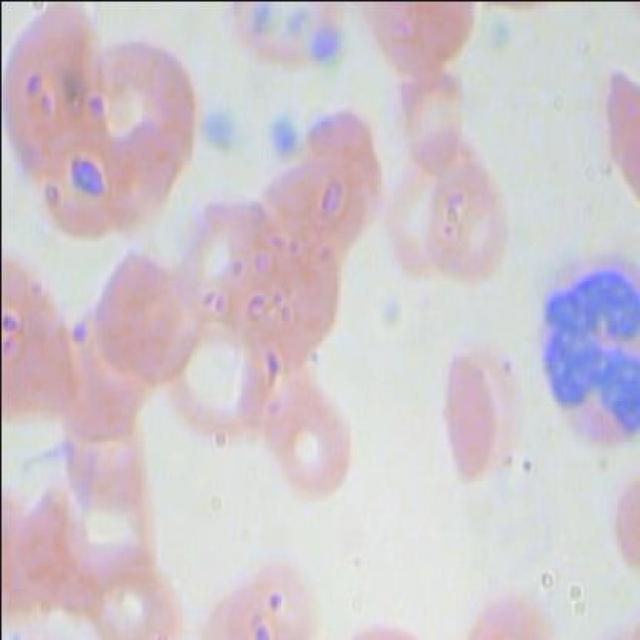Platelets: (196, 95, 241, 160), (259, 103, 303, 168), (307, 6, 351, 71)
RBC: (78, 22, 199, 200), (1, 2, 114, 185), (428, 327, 542, 499), (231, 221, 354, 367), (250, 148, 368, 298), (169, 312, 274, 457), (52, 372, 156, 517), (65, 453, 169, 598), (82, 244, 186, 388), (35, 312, 140, 454), (265, 357, 363, 509), (428, 133, 514, 284), (376, 139, 462, 290), (215, 2, 357, 89), (78, 523, 184, 639), (214, 544, 328, 638), (177, 544, 291, 638), (392, 55, 466, 178), (2, 480, 63, 622), (600, 61, 638, 248), (592, 431, 638, 580)
WBC: (518, 244, 638, 450)
